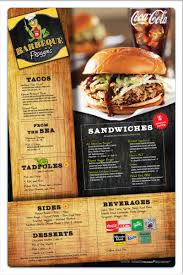coke: (123, 8, 180, 75)
